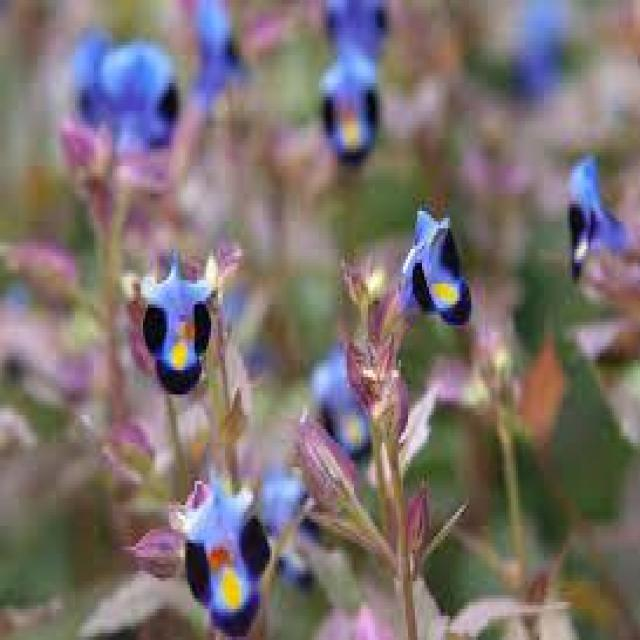organic waste: (166, 470, 270, 622), (395, 200, 484, 342), (131, 264, 223, 400)
